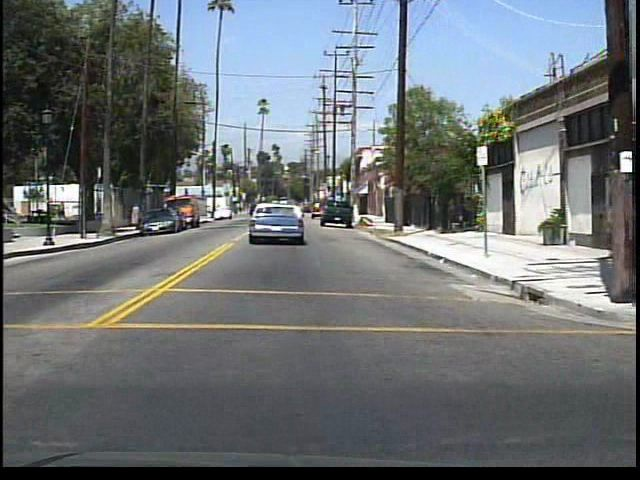person: (56, 199, 70, 225), (93, 196, 107, 222), (131, 200, 143, 229)
